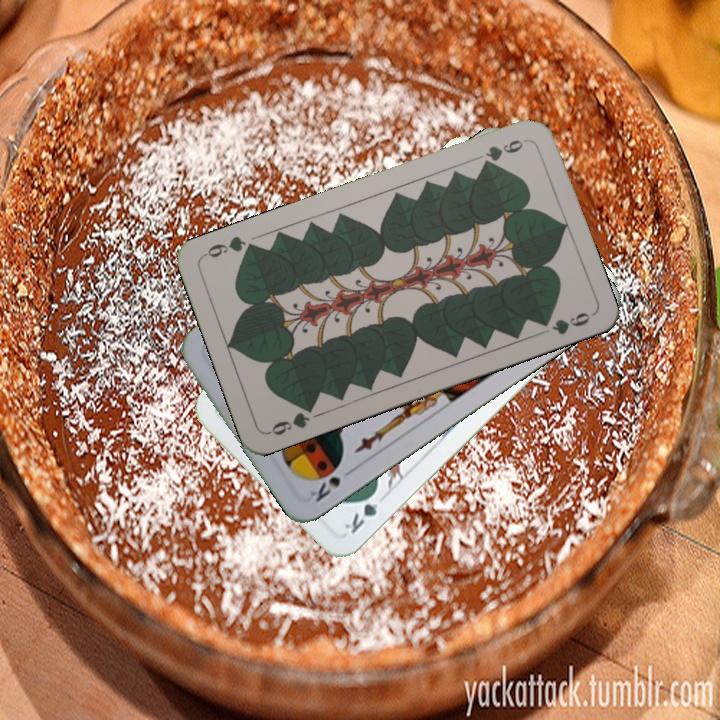G9: (264, 400, 317, 438), (477, 135, 530, 170)
GK: (340, 485, 381, 537)
SK: (306, 464, 358, 505)
